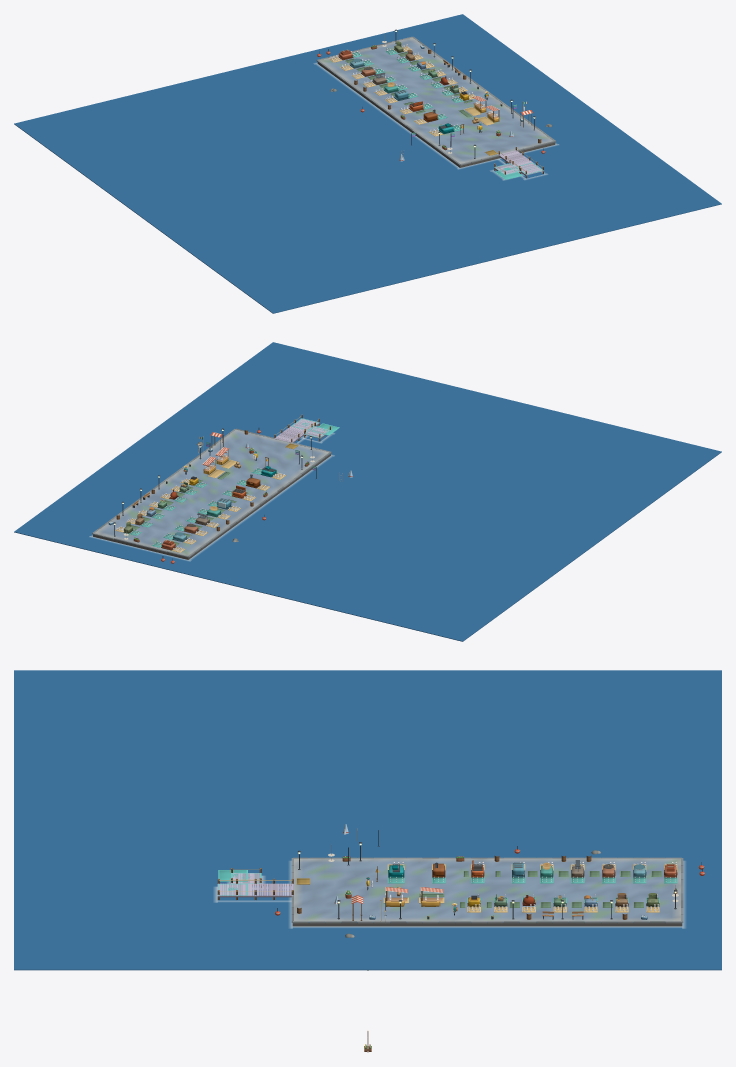
The model's file is prism_reach_blockout.glb.
3 renders of one model, top to bottom at view 1: azimuth 30°, elevation 25°; view 2: azimuth 150°, elevation 25°; view 3: azimuth 270°, elevation 25°, orthographic. The views are drawn at different scales.
Visible parts, largest first — view 1: Water, Ground_pr_land, Ground_pr_pier, Foam; view 2: Water, Ground_pr_land, Foam, Ground_pr_pier; view 3: Water, Ground_pr_land, Foam, Ground_pr_pier.
Boxes of the visible parts, x1,y1,x2,y2 form: Water: (14,14,721,313); Ground_pr_land: (316,36,555,167); Ground_pr_pier: (498,147,544,177); Foam: (314,63,558,180); Water: (14,342,721,641); Ground_pr_land: (92,428,331,559); Foam: (89,433,334,561); Ground_pr_pier: (274,414,319,442); Water: (14,670,721,970); Ground_pr_land: (291,857,683,926); Foam: (214,861,685,928); Ground_pr_pier: (217,878,293,899).
Size of the model in its own units: 80 by 22.73 by 80.
